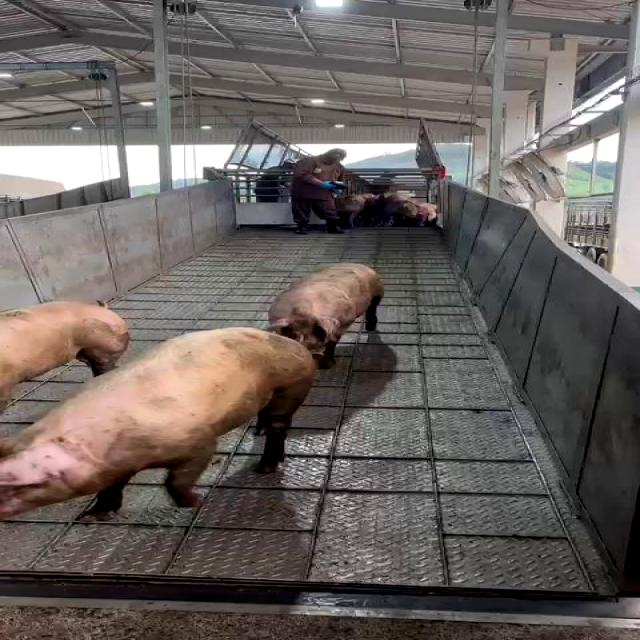pig: (4, 328, 315, 518), (0, 300, 131, 411), (269, 264, 383, 367)
